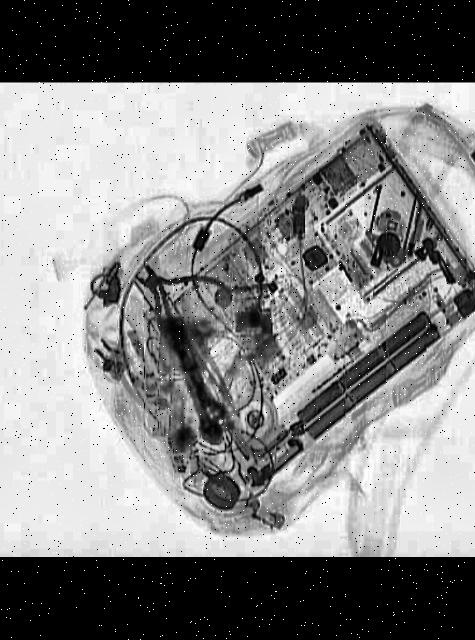Pliers: (106, 244, 237, 351)
